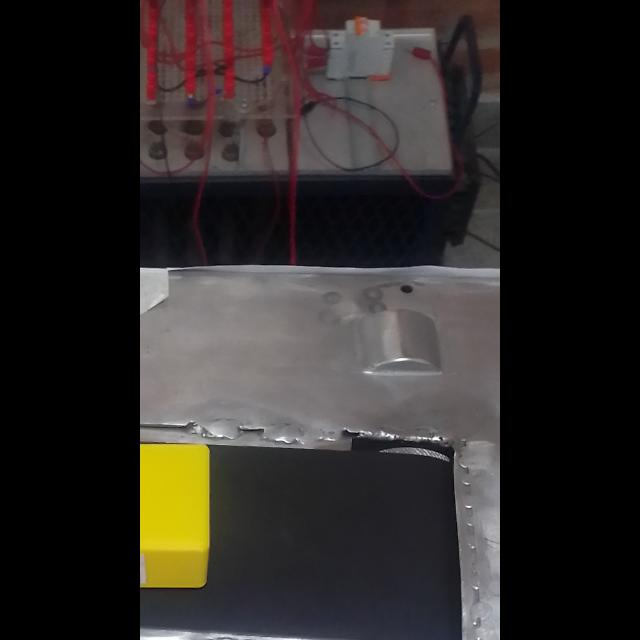yellowBox: (140, 431, 216, 593)
